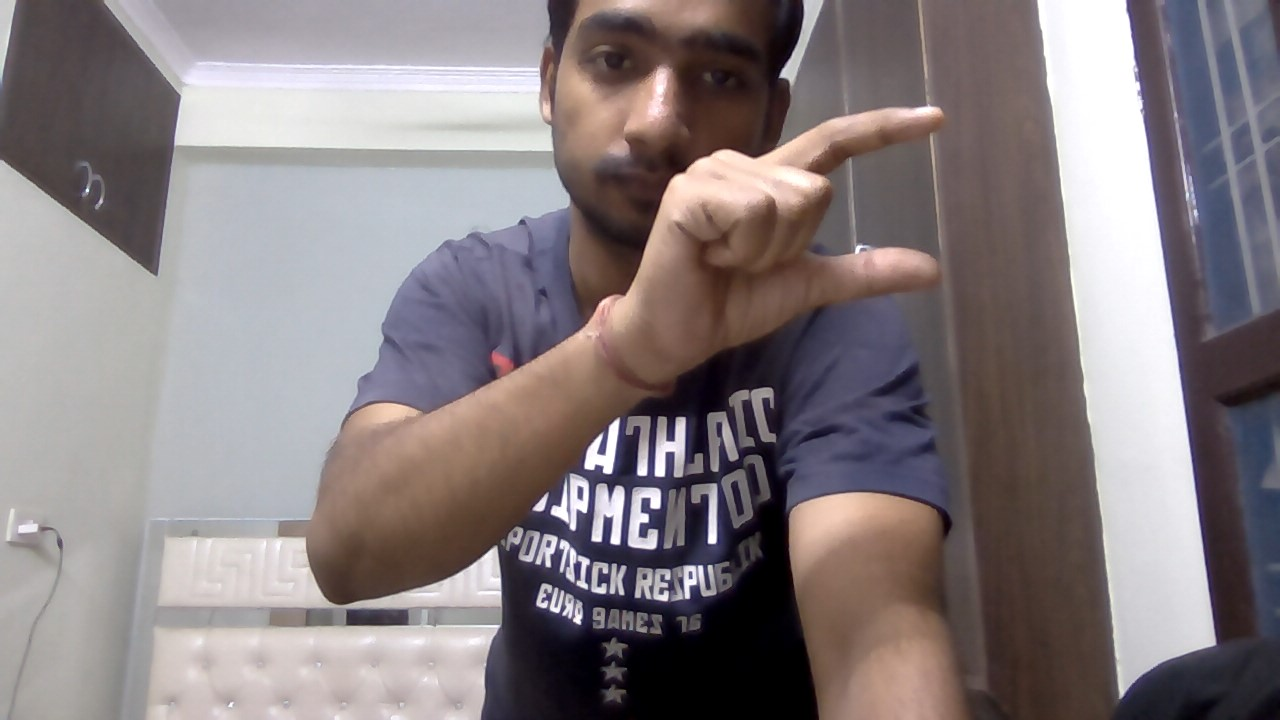Paste: (593, 92, 970, 378)
